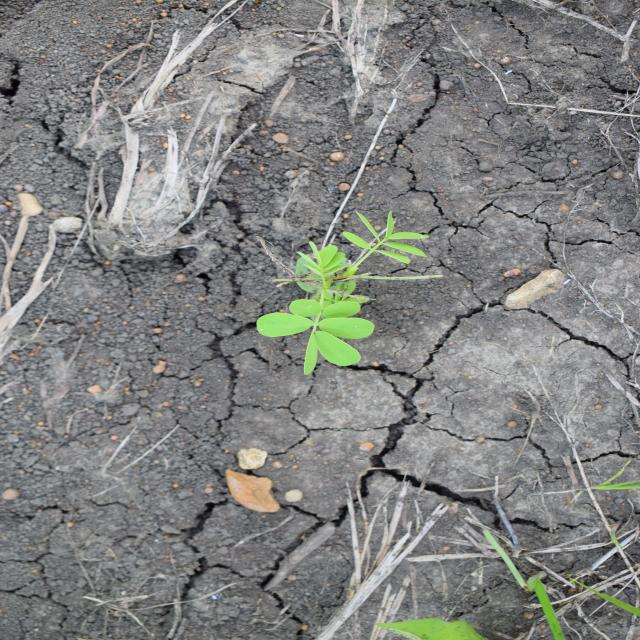Sicklepod: (254, 208, 434, 378)
